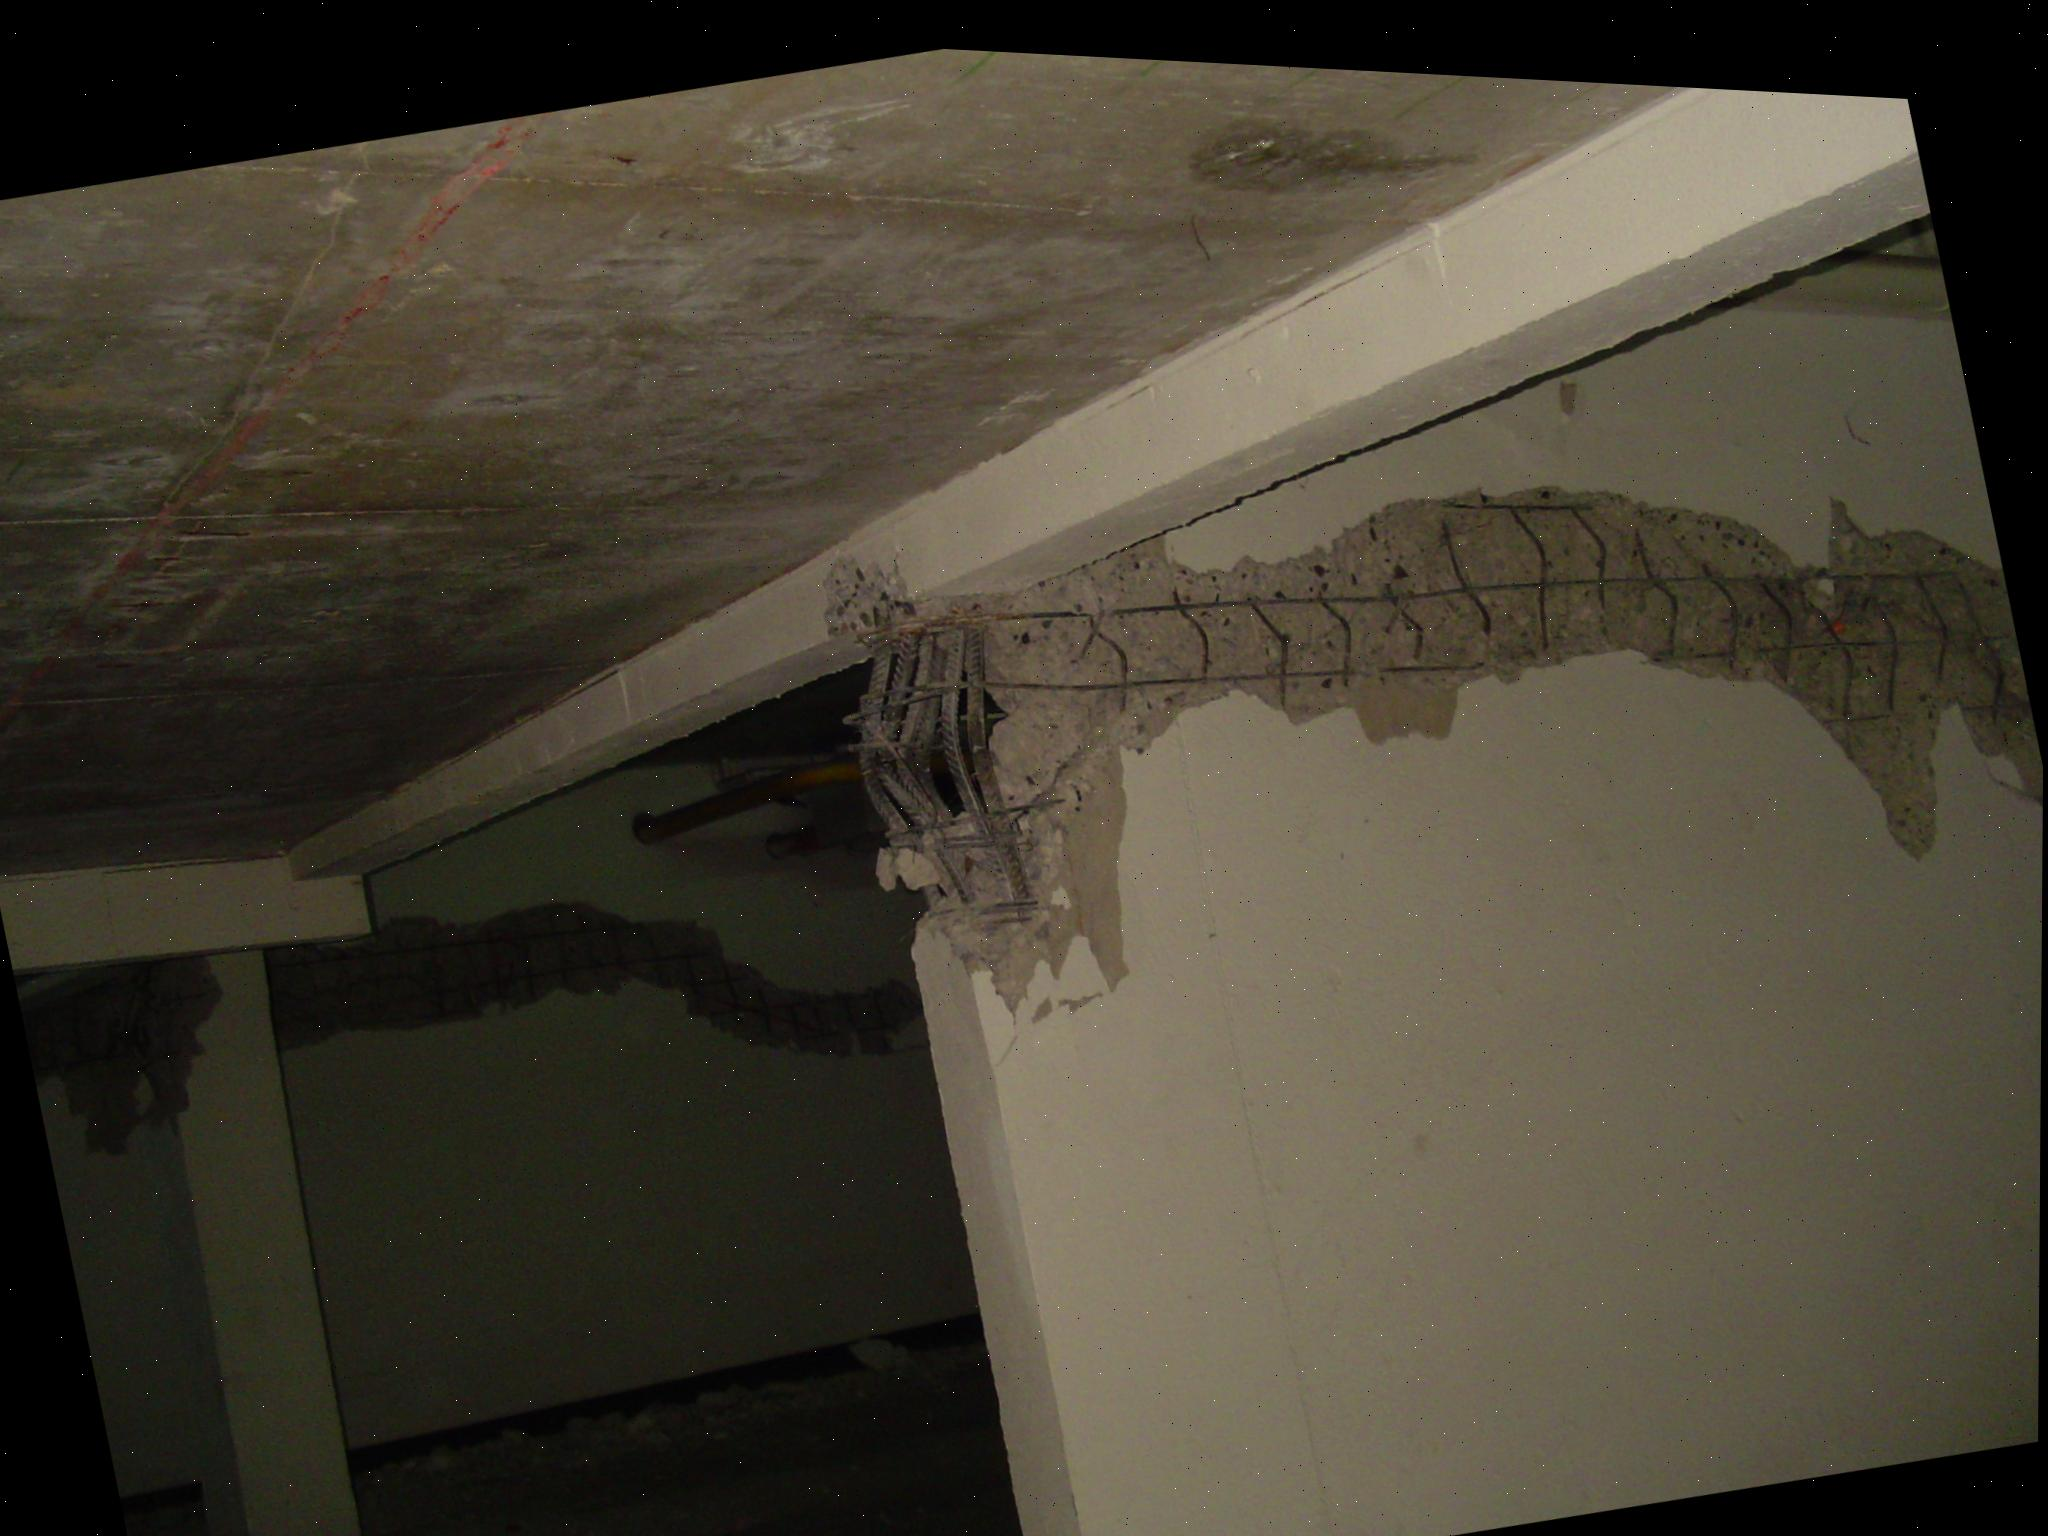exposed_rebar: (851, 621, 1035, 915)
spalling: (827, 486, 2043, 1010), (266, 902, 921, 1052), (21, 958, 214, 1154)
